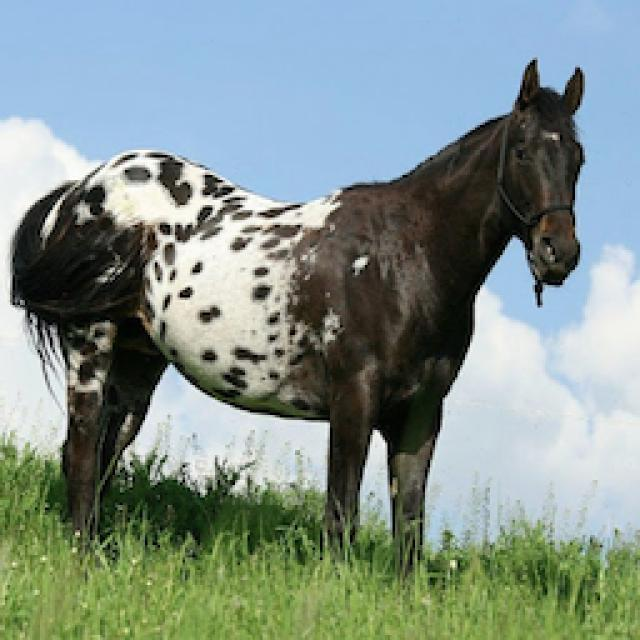Horse: (0, 52, 595, 582)
